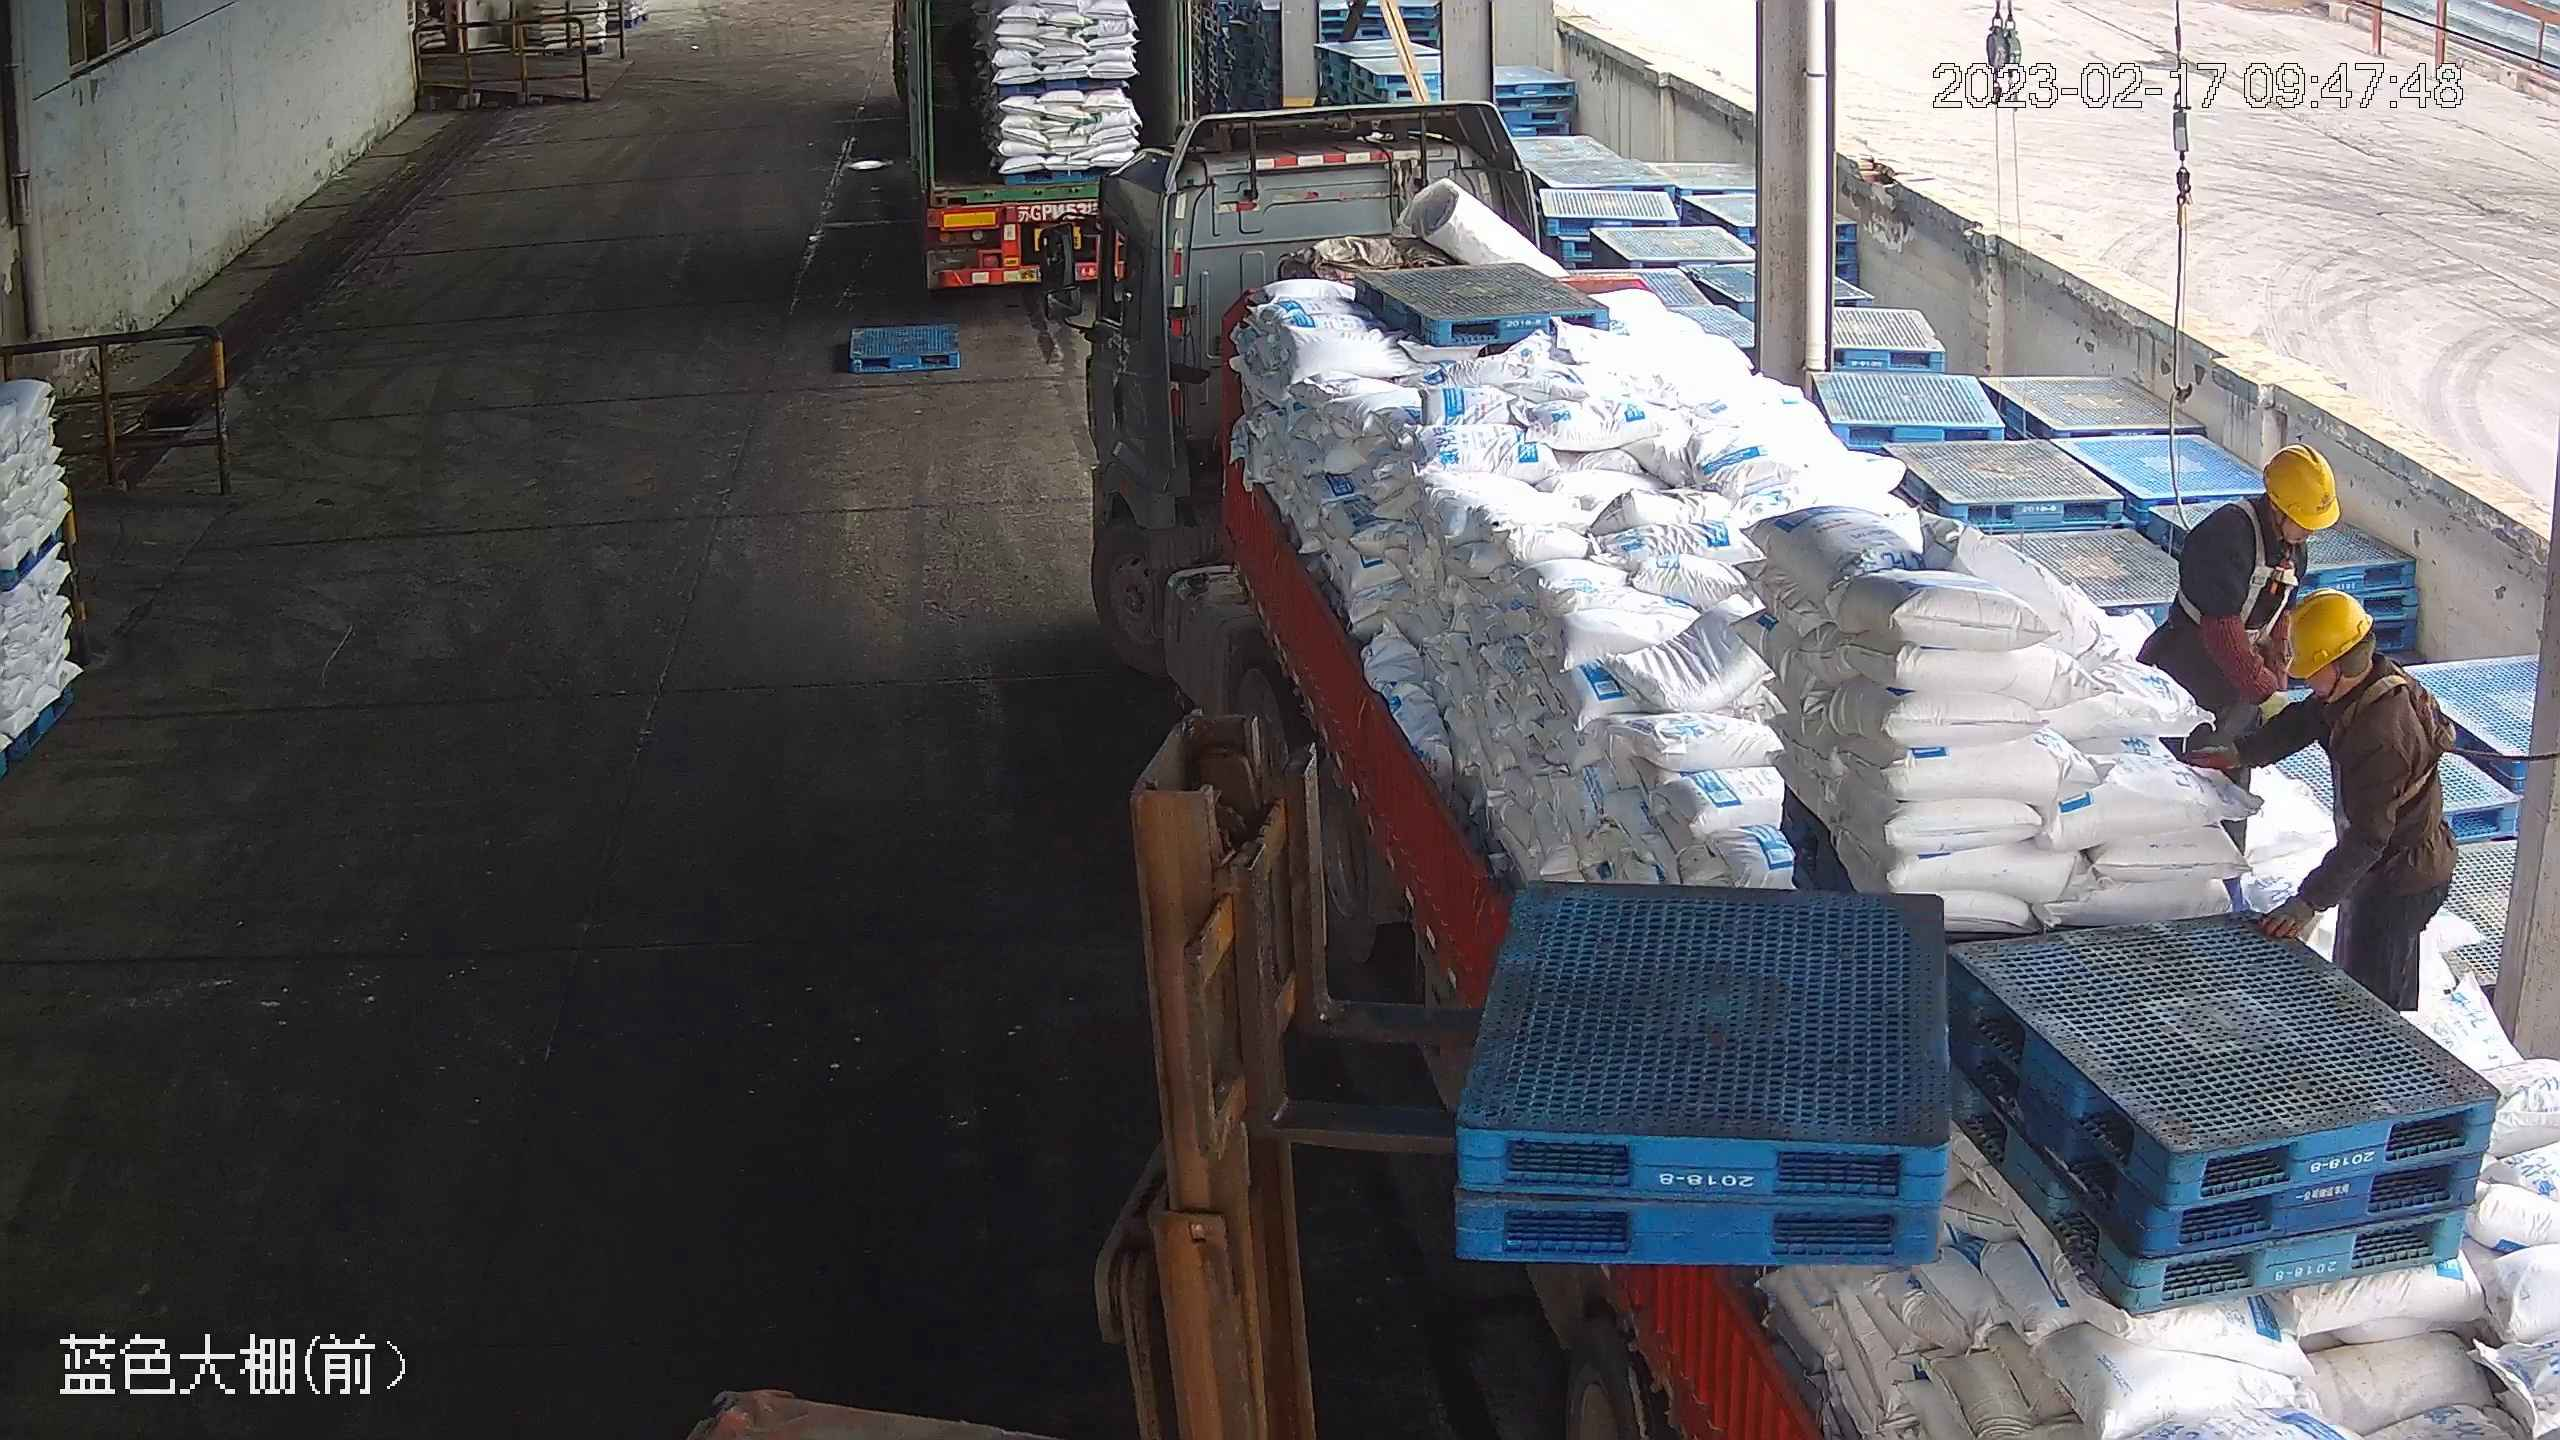belt: (2338, 665, 2454, 804), (2194, 501, 2303, 625)
head: (2276, 588, 2431, 744), (2185, 440, 2341, 584)
helmet: (2283, 586, 2372, 681), (2261, 440, 2342, 530)
people: (2230, 585, 2462, 1025), (2134, 436, 2339, 784)
truck: (1074, 151, 2557, 1439), (886, 8, 1205, 291)
